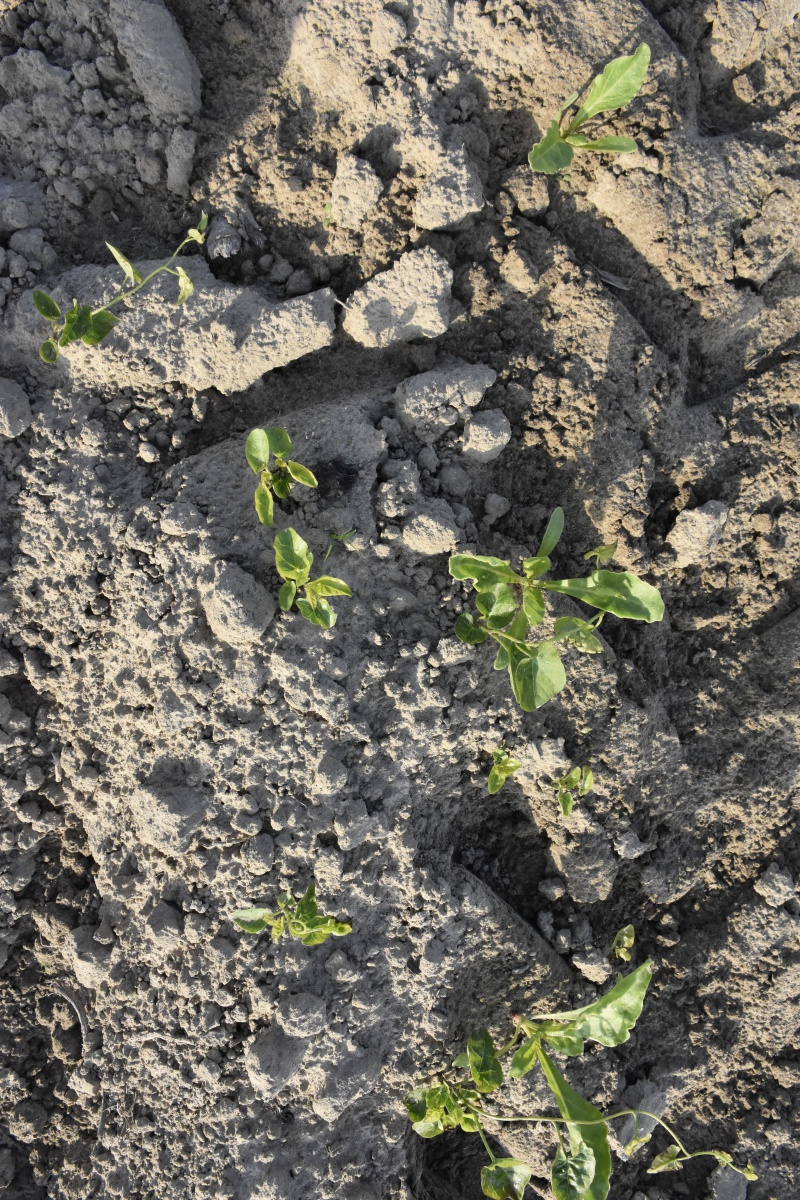field bindweed: (404, 1044, 764, 1200), (27, 206, 221, 365), (454, 597, 621, 709), (241, 416, 328, 529), (269, 530, 354, 637), (228, 882, 350, 952), (550, 758, 603, 820), (485, 752, 530, 804)
sugar beet: (506, 958, 659, 1200), (449, 538, 664, 641), (531, 44, 659, 182)
